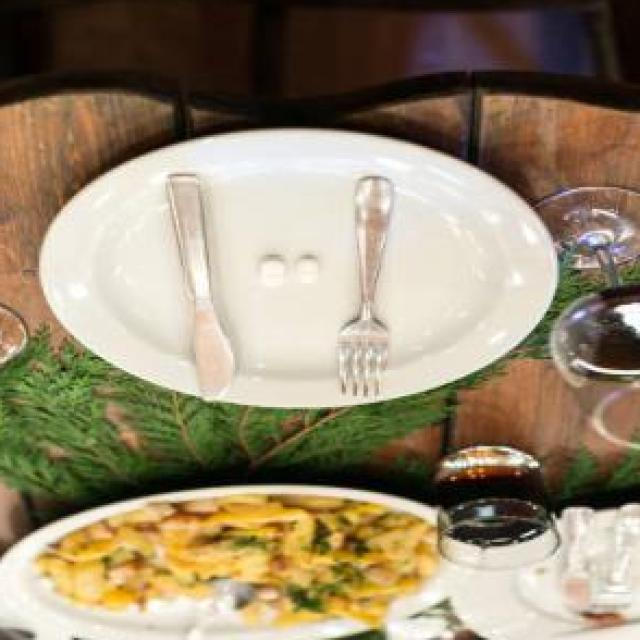knife: (162, 176, 240, 405)
